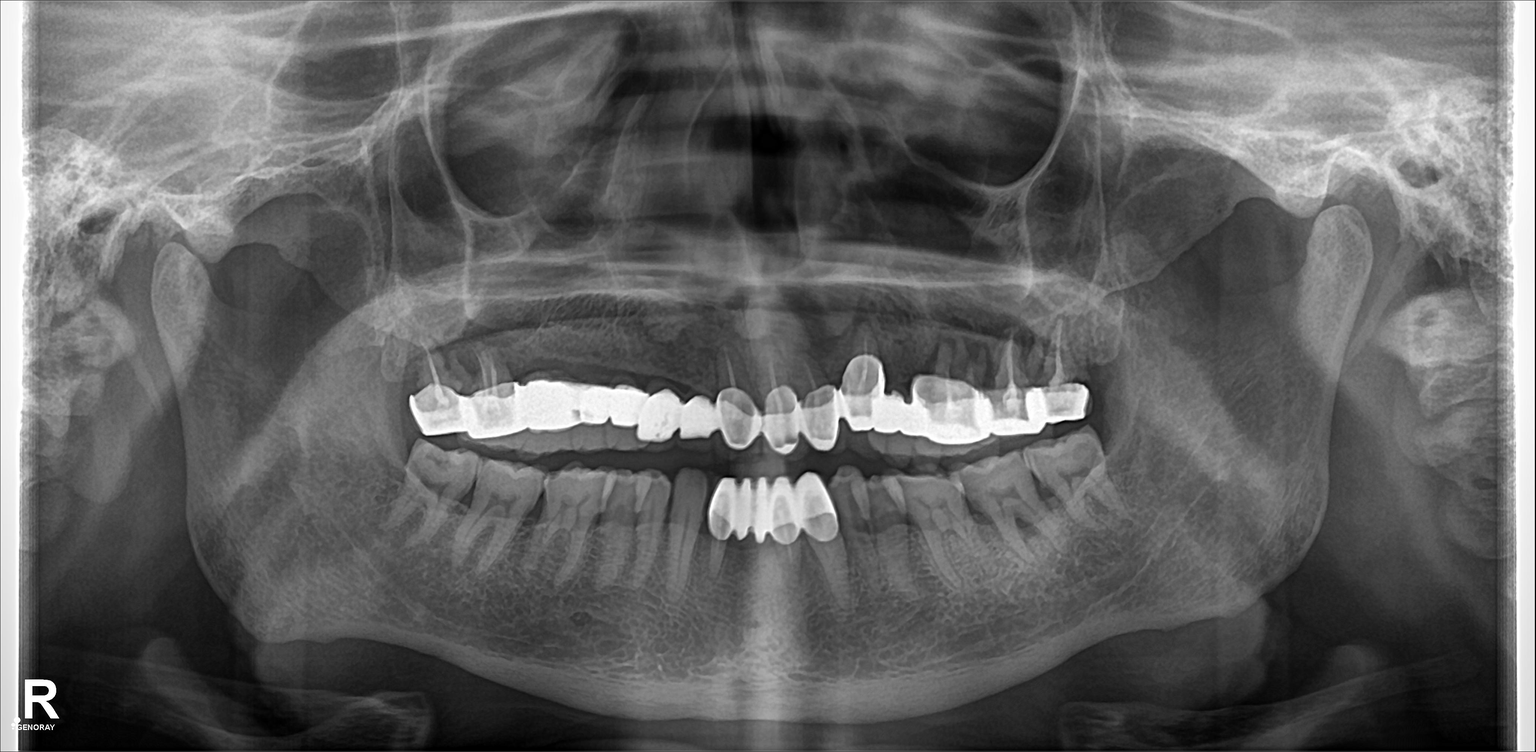Endodontically Treated Tooth: (833, 337, 888, 441), (749, 337, 793, 453), (406, 346, 456, 438), (462, 344, 512, 432), (799, 342, 834, 465), (765, 480, 802, 590), (993, 335, 1031, 439), (1041, 328, 1082, 422), (721, 365, 755, 447)
